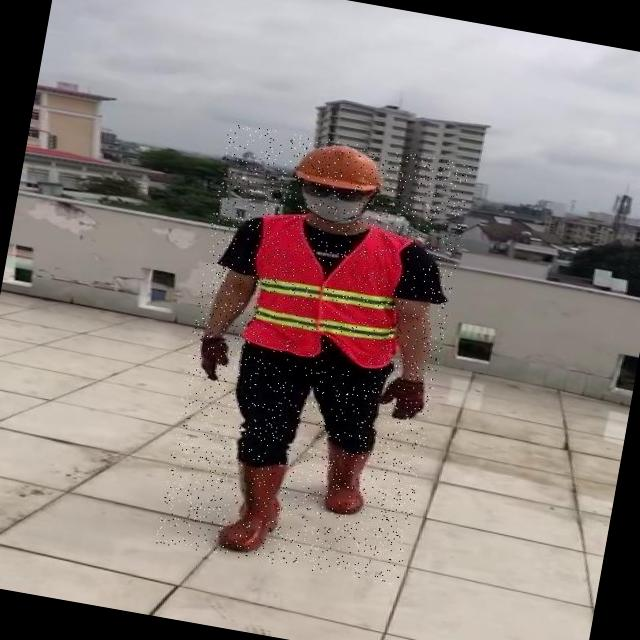boots: (212, 455, 288, 557), (316, 437, 374, 518)
gloves: (380, 377, 422, 418), (200, 335, 228, 379)
helmet: (289, 135, 390, 197)
vest: (242, 212, 414, 374)
